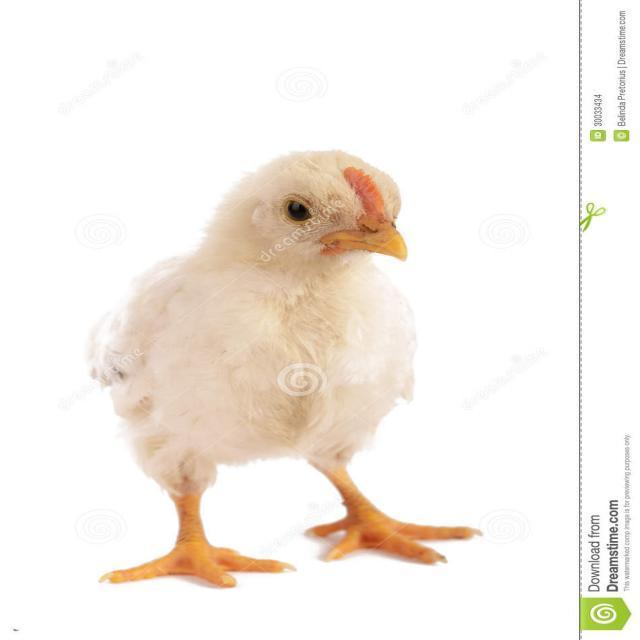poussin: (95, 142, 445, 598)
